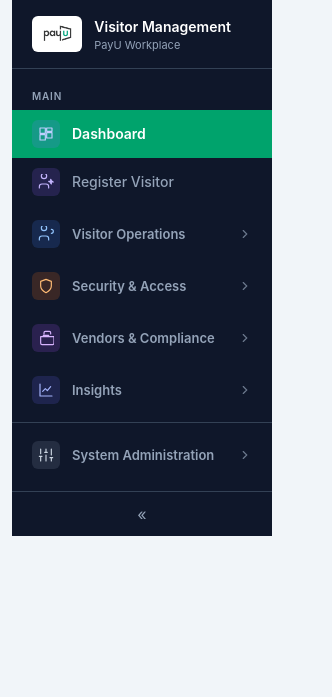
Test: Sidebar UI › accordion closes third group when opening another
Click the button "Security & Access" at [142, 286], box x1=12 y1=262 x2=272 y2=310
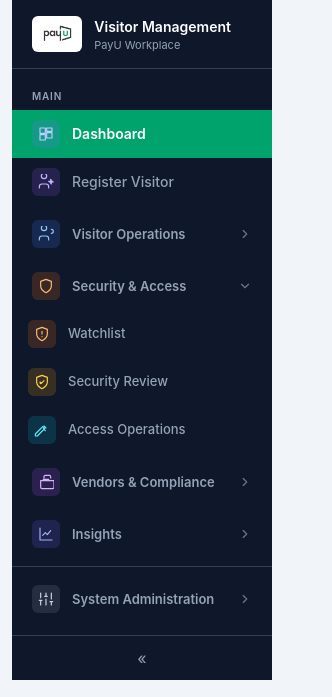
Click the button "Vendors & Compliance" at [142, 482], box x1=12 y1=458 x2=272 y2=506
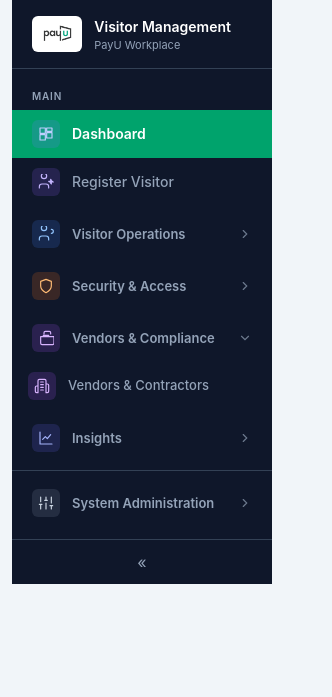
expect the button "Vendors & Compliance" is expanded: met, box x1=12 y1=314 x2=272 y2=362
